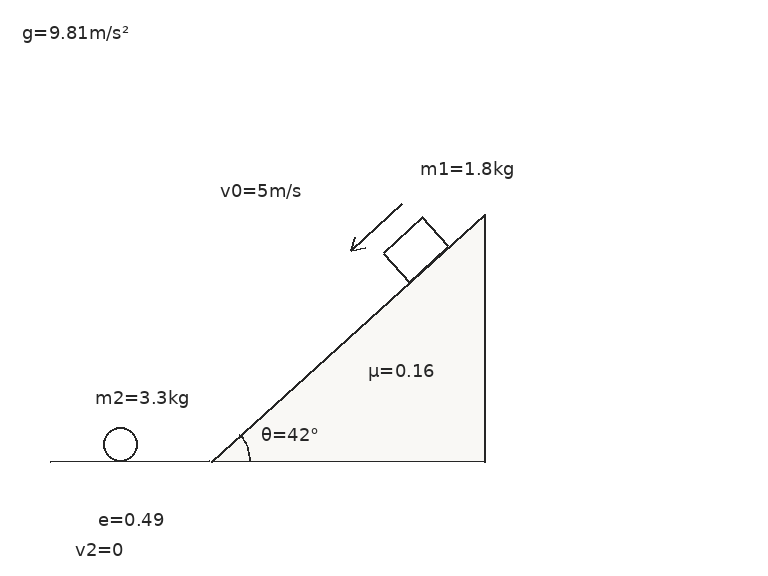ball: (101, 425, 139, 463)
block: (381, 215, 450, 284)
ramp: (208, 212, 486, 463)
